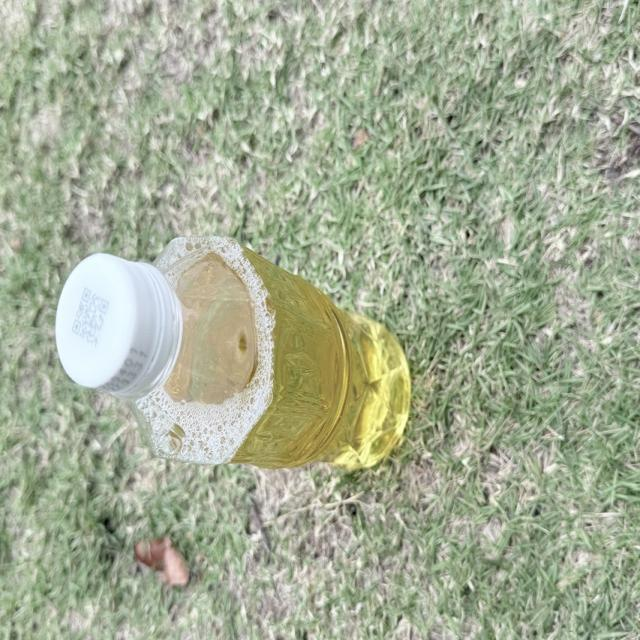high: (56, 238, 410, 469)
